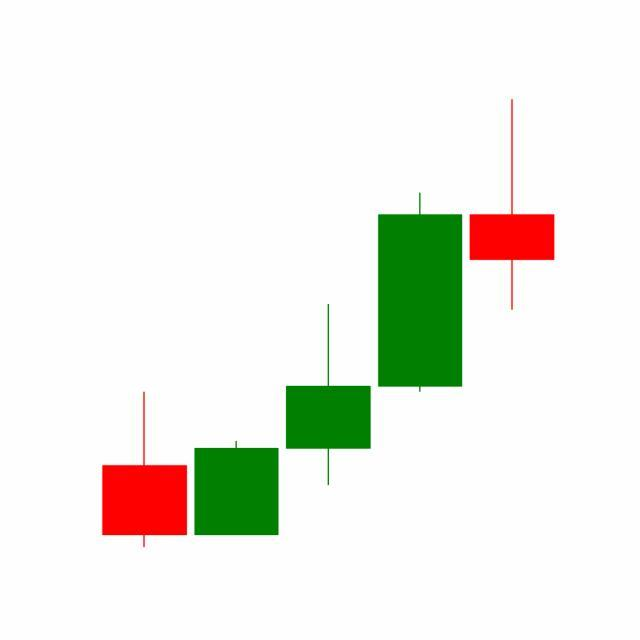Spinning Top: (466, 98, 559, 314)
